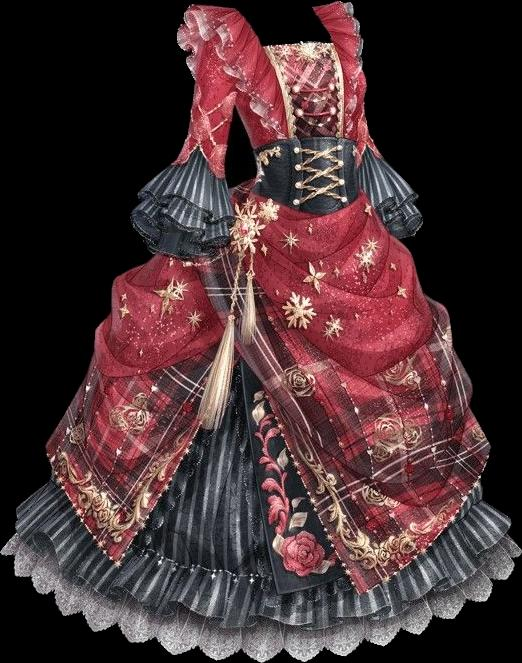Bodice: (236, 42, 365, 214)
Hemline: (187, 230, 494, 597), (17, 510, 507, 638), (0, 545, 521, 662), (43, 347, 241, 569), (238, 359, 346, 596)
Neckline: (252, 130, 358, 153), (259, 37, 337, 53)
Skirt: (2, 177, 519, 660)
Sleeve: (132, 4, 262, 262)
Sleeveline: (176, 141, 224, 178), (236, 8, 266, 49)
Waistline: (251, 173, 366, 221), (174, 8, 246, 82), (130, 212, 233, 245), (141, 188, 235, 216)
